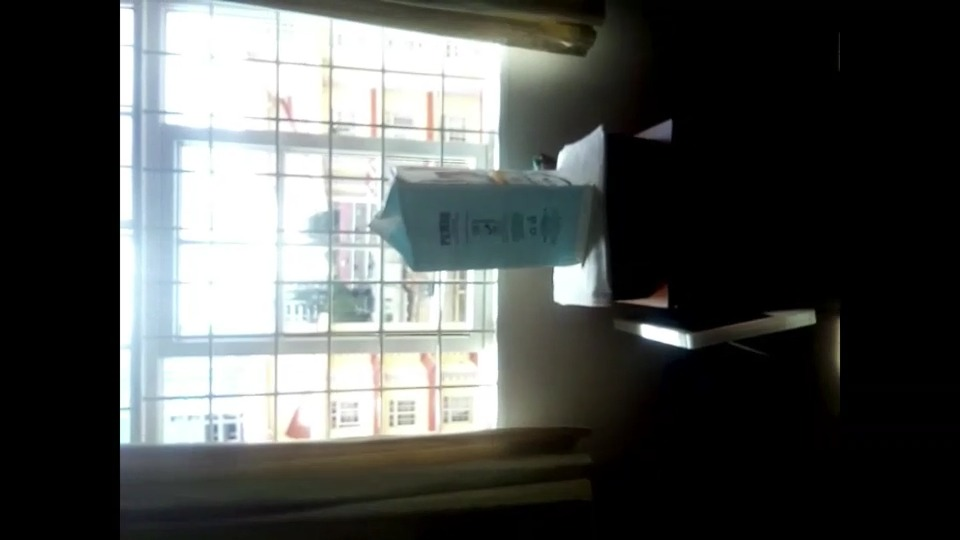wheat_flour_blue_label: (388, 171, 605, 268)
